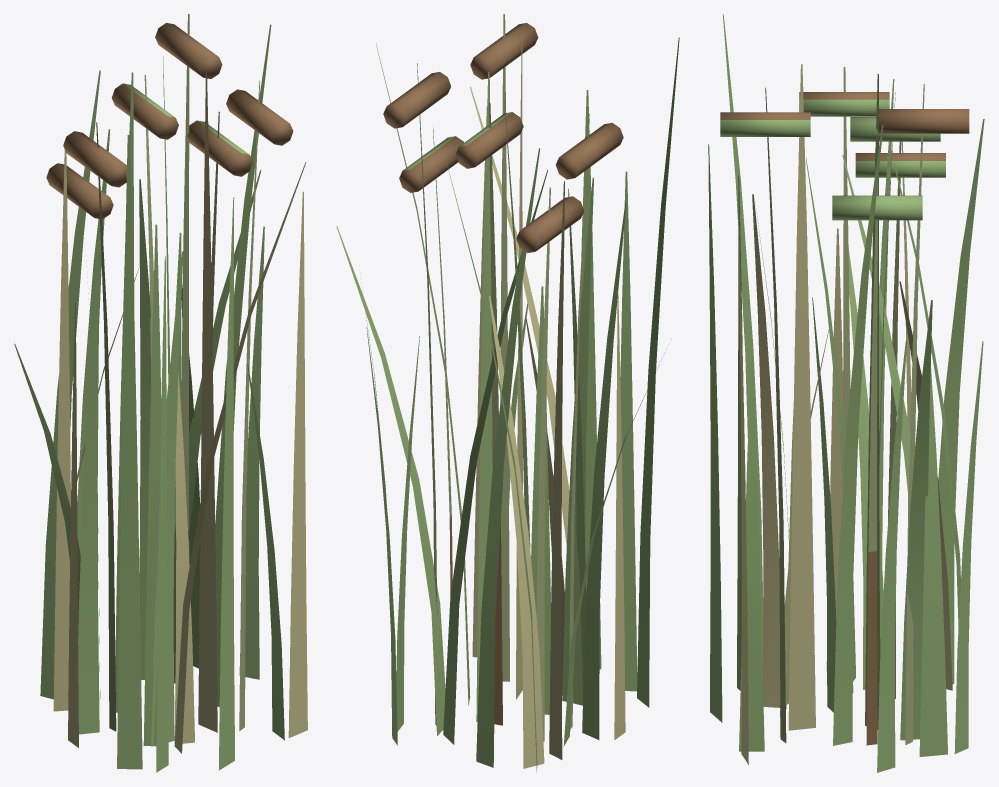
File: reeds_cattail_clump.glb
3 renders of one model, left to right at view 1: azimuth 30°, elevation 25°; view 2: azimuth 150°, elevation 25°; view 3: azimuth 270°, elevation 25°, orthographic.
Visible parts, largest first — view 1: reeds_cattail_clump; view 2: reeds_cattail_clump; view 3: reeds_cattail_clump.
Part boxes in pixels (bbox=[...]): reeds_cattail_clump: bbox=[14, 14, 307, 772]; reeds_cattail_clump: bbox=[336, 14, 679, 771]; reeds_cattail_clump: bbox=[708, 14, 984, 772].
Bounding box in the file's own units: 0.8204 × 1.79 × 0.6724.
